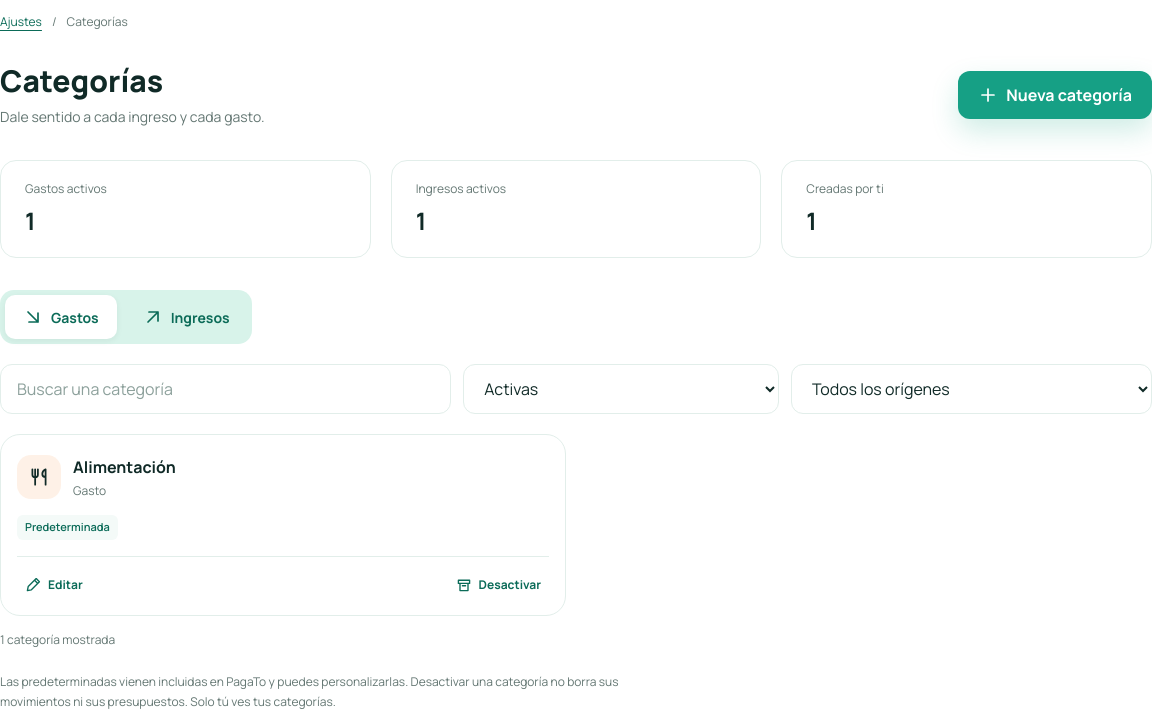
solicita confirmación antes de desactivar
The image size is (1152, 720).
Click the button with aria-label "Desactivar Alimentación": [498, 584] box [448,562,549,606]
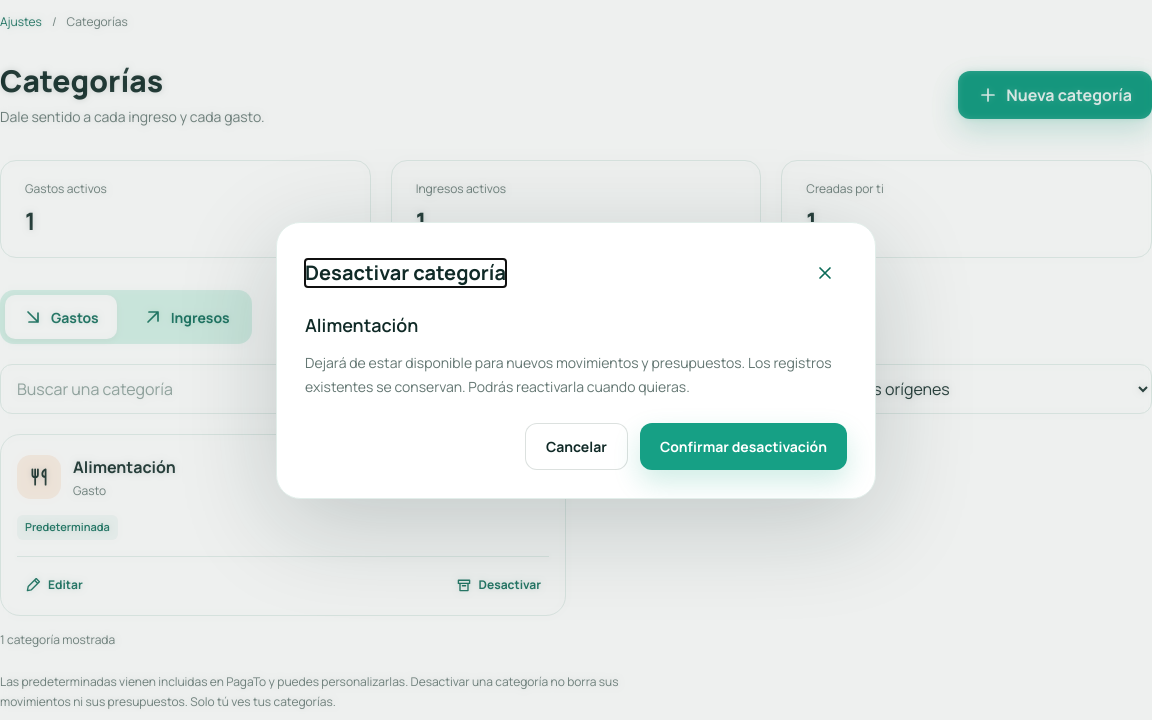
Check: the dialog "Desactivar categoría" is shown, box [276,222,876,498]
Check: the button "Confirmar desactivación" is shown, box [640,422,847,470]
